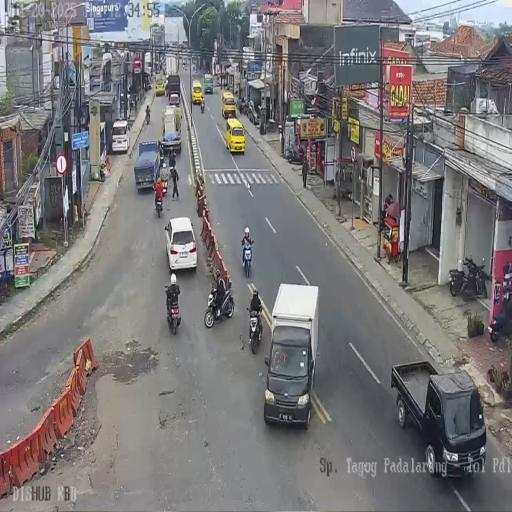car: (164, 217, 197, 274), (226, 116, 246, 154), (111, 119, 130, 155), (222, 91, 236, 119), (192, 80, 203, 104), (120, 90, 130, 116), (155, 75, 165, 96), (204, 73, 213, 94), (169, 92, 180, 106), (182, 64, 187, 72)
motorcycle: (449, 254, 487, 300), (490, 264, 512, 340), (204, 284, 234, 330), (249, 308, 264, 356), (166, 290, 181, 334), (241, 240, 253, 279), (285, 144, 305, 166), (154, 188, 163, 217), (239, 97, 249, 116), (200, 98, 205, 112), (146, 109, 150, 124)
truck: (389, 359, 485, 478), (265, 287, 320, 429), (134, 140, 160, 192), (160, 105, 182, 155), (144, 52, 151, 76)
